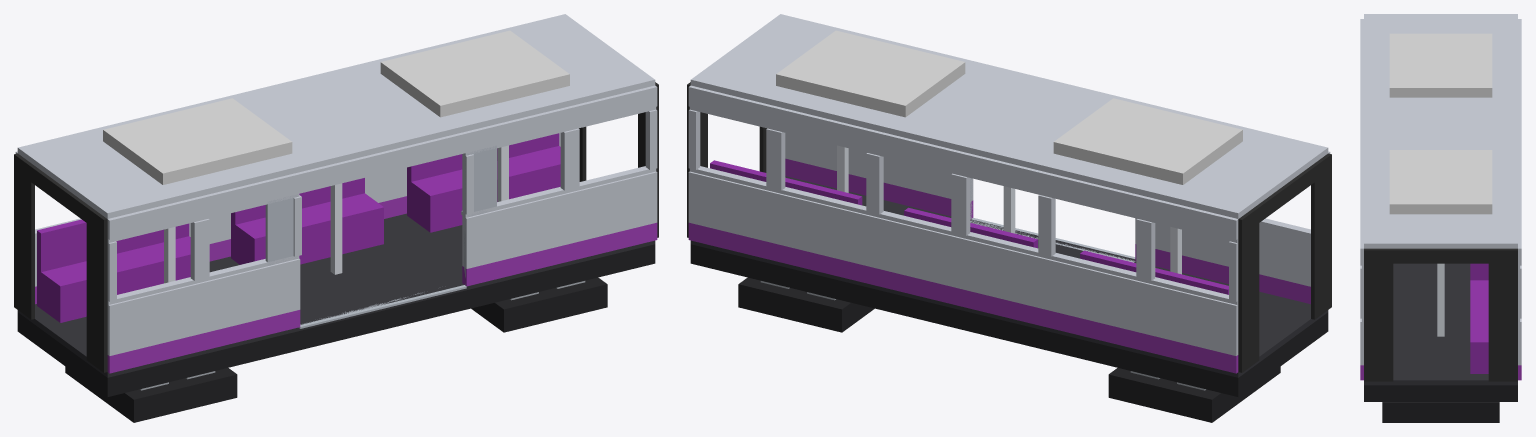
The model's file is metro_wagon_l5.obj.
3 renders of one model, left to right at view 1: azimuth 30°, elevation 25°; view 2: azimuth 150°, elevation 25°; view 3: azimuth 270°, elevation 25°, orthographic. The views are drawn at different scales.
Size of the model in its own units: 3 by 1.26 by 0.88.
